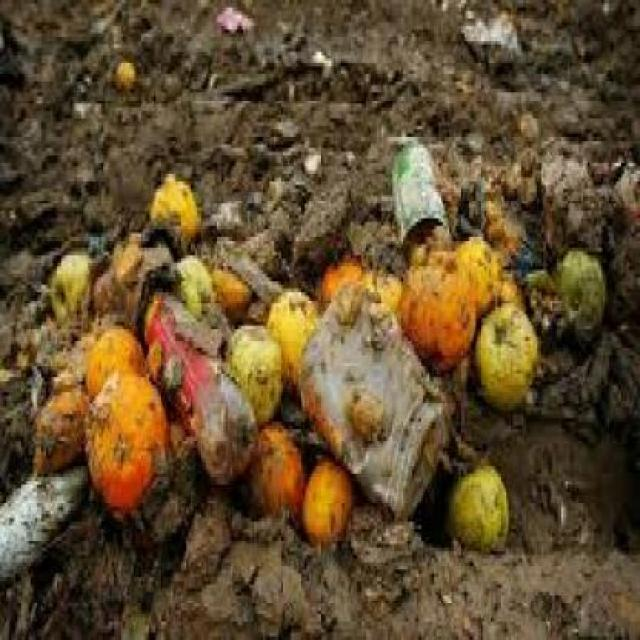garbage: (62, 148, 503, 544), (526, 240, 612, 326), (6, 463, 54, 537), (216, 0, 247, 37), (100, 56, 133, 85)
